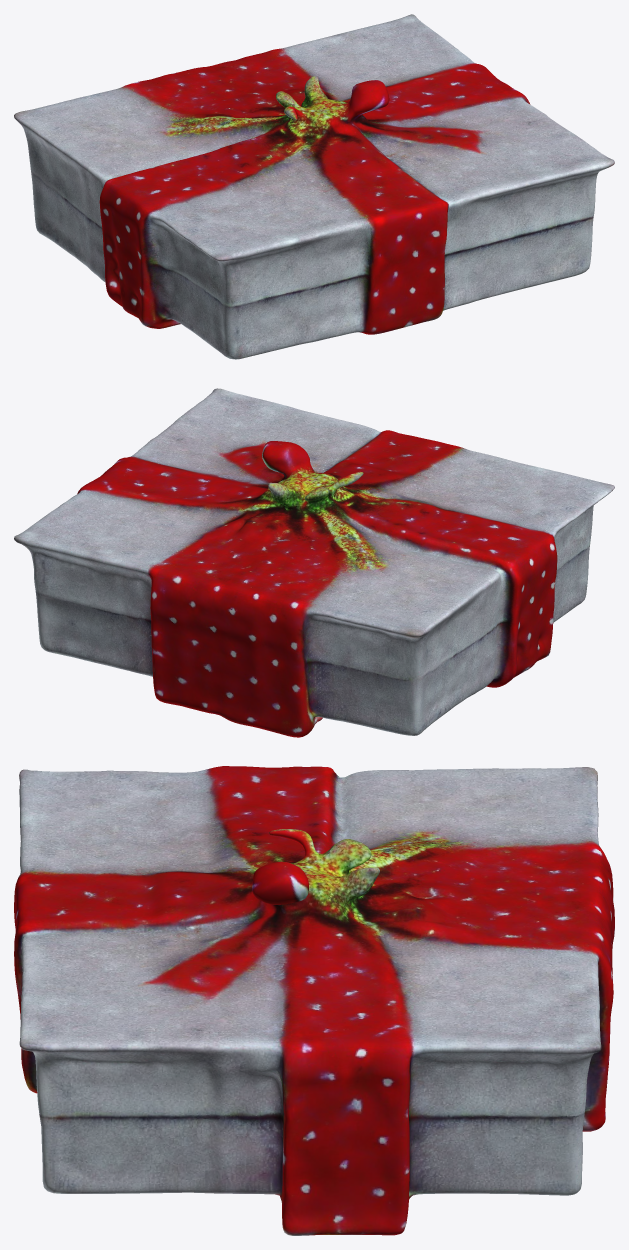
File: christmas_present.glb
3 views of the same model, one above another, from view 1: azimuth 30°, elevation 25°; view 2: azimuth 150°, elevation 25°; view 3: azimuth 270°, elevation 25° (orthographic). The views are drawn at different scales.
Parts seen in each view (by area): view 1: default-material; view 2: default-material; view 3: default-material.
Part boxes in pixels (box(x1,y1,x2,y2)): default-material: box(14, 14, 614, 359); default-material: box(14, 388, 614, 737); default-material: box(14, 766, 614, 1235).
Size of the model in its own units: 1.35 by 0.5674 by 1.18.
1 material, 1 textured.
